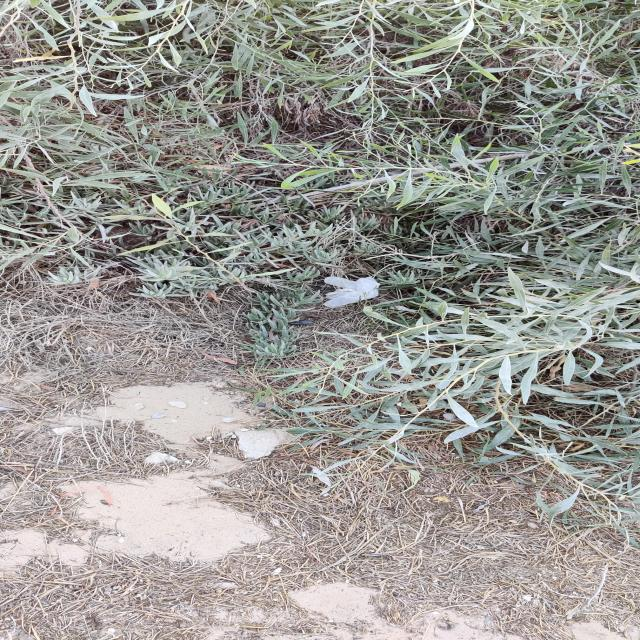litter: (309, 268, 396, 313)
